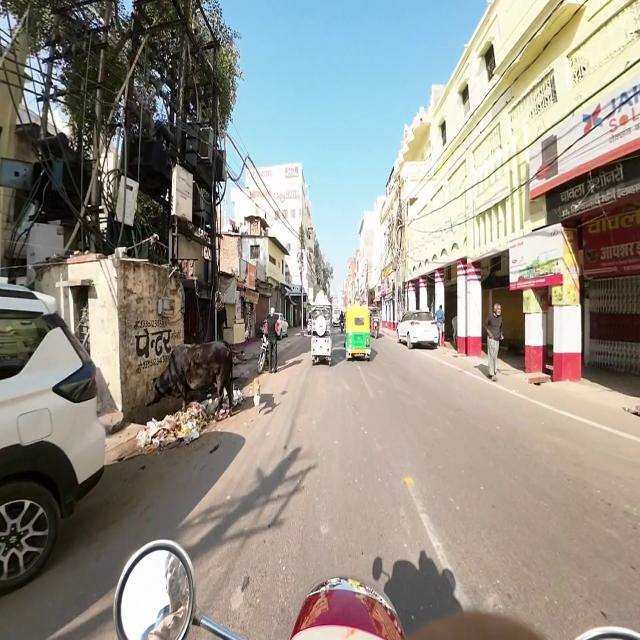Garbage: (146, 406, 202, 440)
